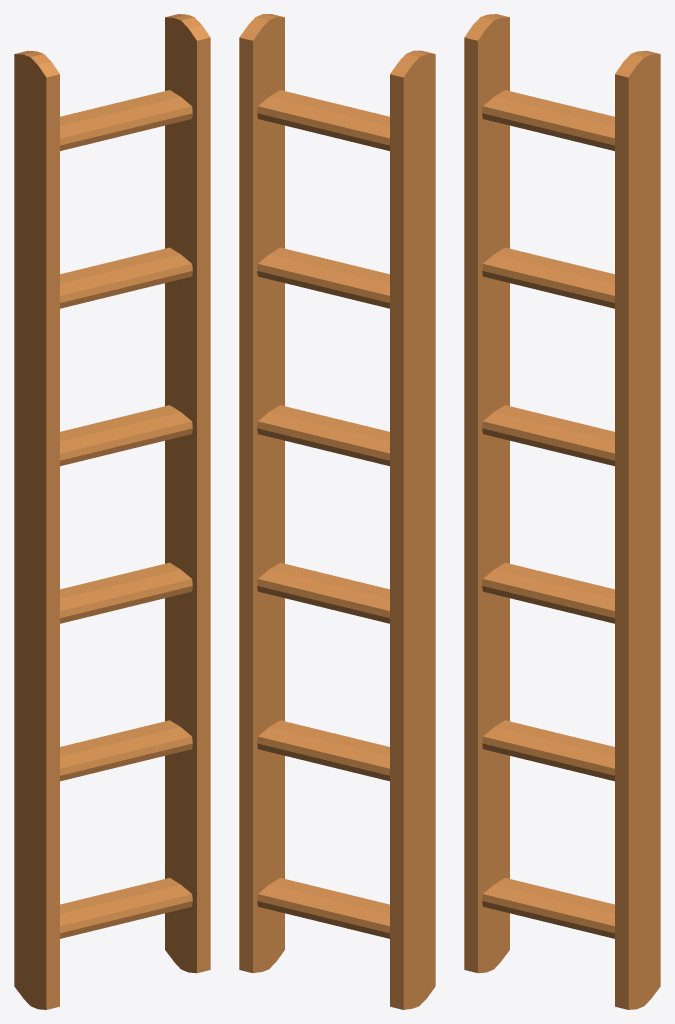
The model's file is eId80xrpjG6.glb.
The picture shows the model from 3 angles, left to right: view 1: azimuth 30°, elevation 25°; view 2: azimuth 150°, elevation 25°; view 3: azimuth 330°, elevation 25°; orthographic projection.
Visible parts, largest first — view 1: Node; view 2: Node; view 3: Node.
Boxes of the visible parts, bbox=[...] form: Node: bbox=[14, 14, 210, 1009]; Node: bbox=[239, 14, 435, 1009]; Node: bbox=[464, 14, 660, 1009].
Bounding box in the file's own units: 0.181 × 1 × 0.0614.
